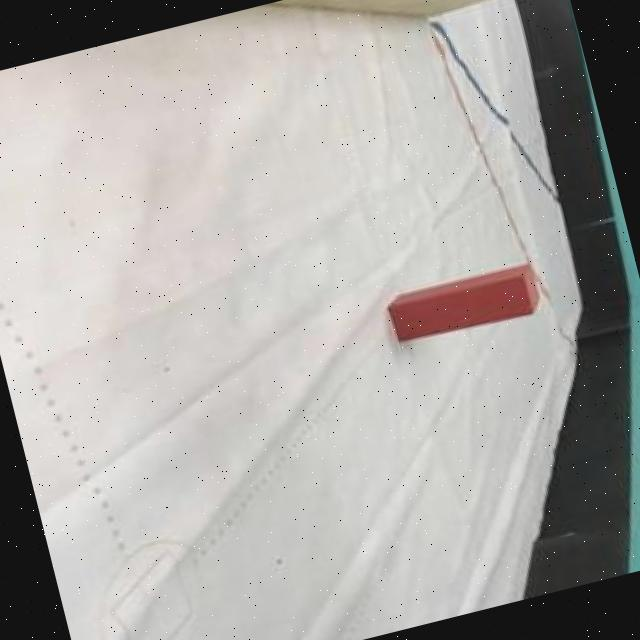redbox: (386, 262, 544, 348)
